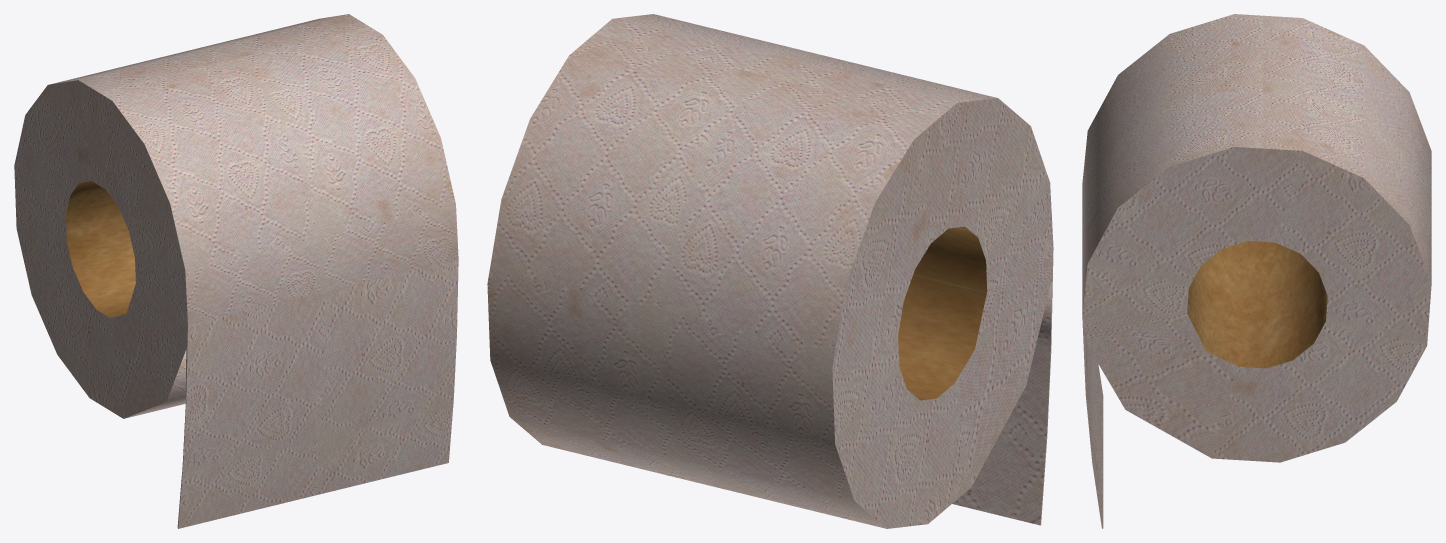
The model's file is Toilet Roll_Unravel.FBX.
3 views of the same model, side by side, from view 1: azimuth 30°, elevation 25°; view 2: azimuth 150°, elevation 25°; view 3: azimuth 270°, elevation 25° (orthographic). The views are drawn at different scales.
Visible parts, largest first — view 1: Toilet Roll_Unravel; view 2: Toilet Roll_Unravel; view 3: Toilet Roll_Unravel.
Part boxes in pixels (bbox=[...]): Toilet Roll_Unravel: bbox=[14, 14, 458, 528]; Toilet Roll_Unravel: bbox=[487, 14, 1053, 528]; Toilet Roll_Unravel: bbox=[1082, 14, 1431, 528].
Size of the model in its own units: 0.0989 by 0.1326 by 0.1098.
